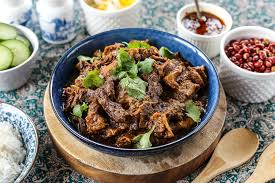rendang: (67, 28, 219, 150)
